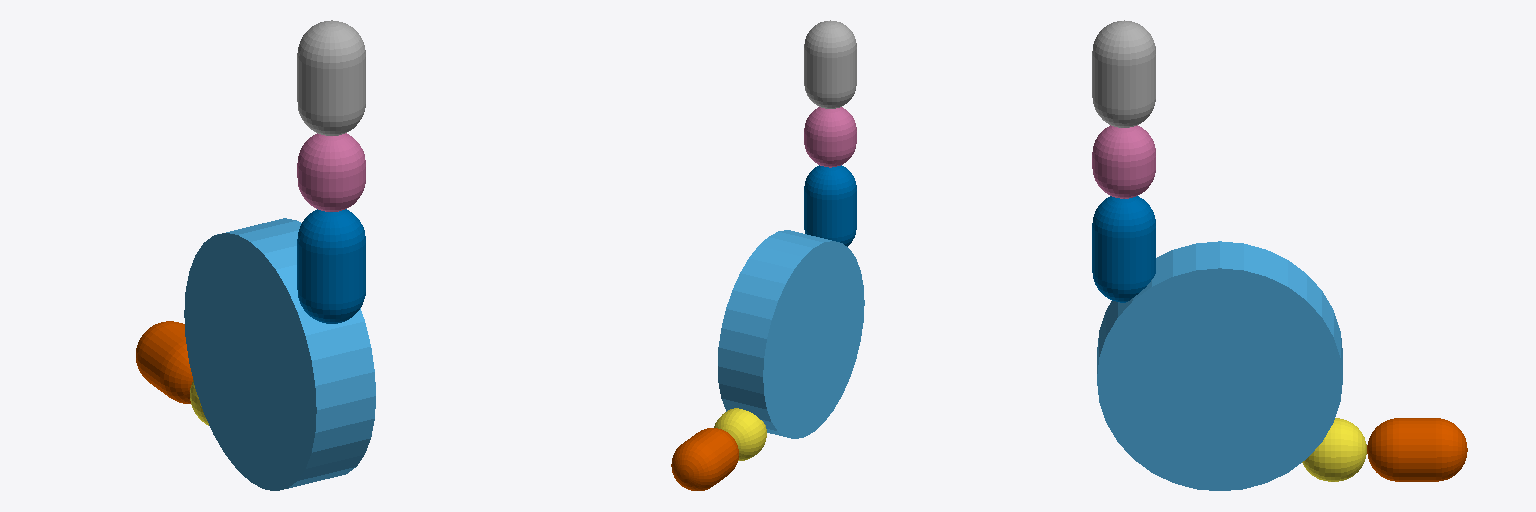
The robot description file, URDF, robot "DexterousHand":
<?xml version="1.0"?>
<robot name="DexterousHand">


    <link name="world"/>
    <joint name="world_to_palm" type="fixed">
        <parent link="world"/>
        <child link="palm"/>
        <origin xyz="0 0 0" rpy="0 0 0"/>
    </joint>
    <link name="palm">
        <inertial>
            <origin xyz="0 0 0.057" rpy="0 0 0"/>
            <mass value="0.30212892864"/>
            <inertia ixx="0.00049080844457568" ixy="0.0" ixz="0.0" iyy="0.00026746366246427523" iyz="0.0" izz="0.00026746366246427523"/>
        </inertial>
        <visual>
            <origin xyz="0 0 0.057" rpy="1.5708 0 1.5708"/>
            <geometry>
                <cylinder radius="0.057" length="0.0296"/>
            </geometry>
            <material name="default"/>
        </visual>
        <collision>
            <origin xyz="0 0 0.057" rpy="1.5708 0 1.5708"/>
            <geometry>
                <cylinder radius="0.057" length="0.0296"/>
            </geometry>
        </collision>
    </link>

    
    <joint name="thumb_joint1" type="revolute">
        <parent link="palm"/>
        <child link="thumb_base"/>
        <origin xyz="0.0029 0.0368 0.0157" rpy="-1.5708 -1.5708 0.0"/>
        <axis xyz="-1 0 0"/>
        <limit lower="-0.349" upper="2.094" effort="1.0" velocity="1.0"/>
    </joint>

    <link name="thumb_base"></link>

    <joint name="thumb_joint2" type="revolute">
        <parent link="thumb_base"/>
        <child link="thumb_proximal"/>
        <origin xyz="0.0 0.0 0.0" rpy="0.0 0.0 0.0"/>
        <axis xyz="0 0 1"/>
        <limit lower="-0.47" upper="2.443" effort="1.0" velocity="1.0"/>
    </joint>

    <link name="thumb_proximal">
        <inertial>
            <origin xyz="0 0 0.01565" rpy="0 0 0"/>
            <mass value="0.021538658803200002"/>
            <inertia ixx="2.9378910096388167e-06" ixy="0.0" ixz="0.0" 
            iyy="2.9378910096388167e-06" iyz="0.0" izz="2.358913912126464e-06"/>
        </inertial>
        <visual>
            <origin xyz="0 0 0.01565" rpy="0 0 0"/>
            <geometry>
                <cylinder radius="0.0148" length="0.0017000000000000001"/>
            </geometry>
            <material name="default"/>
        </visual>
        <visual>
            <origin xyz="0 0 0.0148" rpy="0 0 0"/>
            <geometry>
                <sphere radius="0.0148"/>
            </geometry>
            <material name="default"/>
        </visual>
        <visual>
            <origin xyz="0 0 0.0165" rpy="0 0 0"/>
            <geometry>
                <sphere radius="0.0148"/>
            </geometry>
            <material name="default"/>
        </visual>
        <collision>
            <origin xyz="0 0 0.01565" rpy="0 0 0"/>
            <geometry>
                <cylinder radius="0.0148" length="0.0017000000000000001"/>
            </geometry>
        </collision>
        <collision>
            <origin xyz="0 0 0.0148" rpy="0 0 0"/>
            <geometry>
                <sphere radius="0.0148"/>
            </geometry>
        </collision>
        <collision>
            <origin xyz="0 0 0.0165" rpy="0 0 0"/>
            <geometry>
                <sphere radius="0.0148"/>
            </geometry>
        </collision>
    </link>

    <joint name="thumb_joint3" type="revolute">
        <parent link="thumb_proximal"/>
        <child link="thumb_knuckle"/>
        <origin xyz="0.0 0.0 0.0313" rpy="0.0 0.0 0.0"/>
        <axis xyz="1 0 0"/>
        <limit lower="0.0" upper="0.0" effort="1.0" velocity="1.0"/>
    </joint>

    <link name="thumb_knuckle"></link>

    <joint name="thumb_joint4" type="revolute">
        <parent link="thumb_knuckle"/>
        <child link="thumb_middle"/>
        <origin xyz="0 0 0" rpy="0 0 0"/> 
        <axis xyz="0 1 0"/>
        <limit lower="-1.2" upper="1.9" effort="1.0" velocity="1.0"/>
    </joint>

    <link name="thumb_middle">
        <inertial>
            <origin xyz="0 0 0.0233" rpy="0 0 0"/>
            <mass value="0.032067140582400004"/>
            <inertia ixx="7.5589732685519385e-06" ixy="0.0" ixz="0.0" 
            iyy="7.5589732685519385e-06" iyz="0.0" izz="3.5119932365844485e-06"/>
        </inertial>
        <visual>
            <origin xyz="0 0 0.0233" rpy="0 0 0"/>
            <geometry>
                <cylinder radius="0.0148" length="0.017"/>
            </geometry>
            <material name="default"/>
        </visual>
        <visual>
            <origin xyz="0 0 0.0148" rpy="0 0 0"/>
            <geometry>
                <sphere radius="0.0148"/>
            </geometry>
            <material name="default"/>
        </visual>
        <visual>
            <origin xyz="0 0 0.0318" rpy="0 0 0"/>
            <geometry>
                <sphere radius="0.0148"/>
            </geometry>
            <material name="default"/>
        </visual>
        <collision>
            <origin xyz="0 0 0.0233" rpy="0 0 0"/>
            <geometry>
                <cylinder radius="0.0148" length="0.017"/>
            </geometry>
        </collision>
        <collision>
            <origin xyz="0 0 0.0148" rpy="0 0 0"/>
            <geometry>
                <sphere radius="0.0148"/>
            </geometry>
        </collision>
        <collision>
            <origin xyz="0 0 0.0318" rpy="0 0 0"/>
            <geometry>
                <sphere radius="0.0148"/>
            </geometry>
        </collision>
    </link>

    <joint name="thumb_joint5" type="revolute">
        <parent link="thumb_middle"/>
        <child link="thumb_distal"/>
        <origin xyz="0 0 0.0466" rpy="0 0 0"/> 
        <axis xyz="0 1 0"/>
        <limit lower="0.0" upper="0.0" effort="1.0" velocity="1.0"/>
    </joint>

    <link name="thumb_distal">
    </link>

    
    <joint name="index_joint1" type="revolute">
        <parent link="palm"/>
        <child link="index_proximal"/>
        <origin xyz="0.0 0.0 0.0" rpy="0.0 0.0 0.0"/>
        <axis xyz="1 0 0"/>
        <limit lower="0.0" upper="0.0" effort="1.0" velocity="1.0"/>
    </joint>

    <link name="index_proximal">
    </link>

    <joint name="index_joint2" type="revolute">
        <parent link="index_proximal"/>
        <child link="index_dummy"/>
        <origin xyz="0.0 0.0 0.0" rpy="0.0 0.0 0.0"/>
        <axis xyz="0 1 0"/>
        <limit lower="0.0" upper="0.0" effort="1.0" velocity="1.0"/>
    </joint>

    <link name="index_dummy"></link>

    <joint name="index_joint3" type="revolute">
        <parent link="index_dummy"/>
        <child link="index_middle"/>
        <origin xyz="0 0 0" rpy="0 0 0"/>
        <axis xyz="0 1 0"/>
        <limit lower="0.0" upper="0.0" effort="1.0" velocity="1.0"/>
    </joint>

    <link name="index_middle">
    </link>

    <joint name="index_joint4" type="revolute">
        <parent link="index_middle"/>
        <child link="index_distal"/>
        <origin xyz="0 0 0" rpy="0 0 0"/> 
        <axis xyz="0 1 0"/>
        <limit lower="0.0" upper="0.0" effort="1.0" velocity="1.0"/>
    </joint>

    <link name="index_distal">
    </link>

    
    <joint name="middle_joint1" type="revolute">
        <parent link="palm"/>
        <child link="middle_proximal"/>
        <origin xyz="0.0 0.0 0.0" rpy="0.0 0.0 0.0"/>
        <axis xyz="1 0 0"/>
        <limit lower="0.0" upper="0.0" effort="1.0" velocity="1.0"/>
    </joint>

    <link name="middle_proximal">
    </link>

    <joint name="middle_joint2" type="revolute">
        <parent link="middle_proximal"/>
        <child link="middle_dummy"/>
        <origin xyz="0.0 0.0 0.0" rpy="0.0 0.0 0.0"/>
        <axis xyz="0 1 0"/>
        <limit lower="0.0" upper="0.0" effort="1.0" velocity="1.0"/>
    </joint>

    <link name="middle_dummy"></link>

    <joint name="middle_joint3" type="revolute">
        <parent link="middle_dummy"/>
        <child link="middle_middle"/>
        <origin xyz="0 0 0" rpy="0 0 0"/>
        <axis xyz="0 1 0"/>
        <limit lower="0.0" upper="0.0" effort="1.0" velocity="1.0"/>
    </joint>

    <link name="middle_middle">
    </link>

    <joint name="middle_joint4" type="revolute">
        <parent link="middle_middle"/>
        <child link="middle_distal"/>
        <origin xyz="0 0 0" rpy="0 0 0"/> 
        <axis xyz="0 1 0"/>
        <limit lower="0.0" upper="0.0" effort="1.0" velocity="1.0"/>
    </joint>

    <link name="middle_distal">
    </link>

    
    <joint name="ring_joint1" type="revolute">
        <parent link="palm"/>
        <child link="ring_proximal"/>
        <origin xyz="0.0 0.0 0.0" rpy="0.0 0.0 0.0"/>
        <axis xyz="1 0 0"/>
        <limit lower="0.0" upper="0.0" effort="1.0" velocity="1.0"/>
    </joint>

    <link name="ring_proximal">
    </link>

    <joint name="ring_joint2" type="revolute">
        <parent link="ring_proximal"/>
        <child link="ring_dummy"/>
        <origin xyz="0.0 0.0 0.0" rpy="0.0 0.0 0.0"/>
        <axis xyz="0 1 0"/>
        <limit lower="0.0" upper="0.0" effort="1.0" velocity="1.0"/>
    </joint>

    <link name="ring_dummy"></link>

    <joint name="ring_joint3" type="revolute">
        <parent link="ring_dummy"/>
        <child link="ring_middle"/>
        <origin xyz="0 0 0" rpy="0 0 0"/>
        <axis xyz="0 1 0"/>
        <limit lower="0.0" upper="0.0" effort="1.0" velocity="1.0"/>
    </joint>

    <link name="ring_middle">
    </link>

    <joint name="ring_joint4" type="revolute">
        <parent link="ring_middle"/>
        <child link="ring_distal"/>
        <origin xyz="0 0 0" rpy="0 0 0"/> 
        <axis xyz="0 1 0"/>
        <limit lower="0.0" upper="0.0" effort="1.0" velocity="1.0"/>
    </joint>

    <link name="ring_distal">
    </link>

    
    <joint name="little_joint0" type="revolute">
        <parent link="palm"/>
        <child link="little_base"/>
        <origin xyz="0.0 0.0 0.0" rpy="0.0 0.0 0.0"/>
        <axis xyz="0 1 0"/>
        <limit lower="0.0" upper="0.0" effort="1.0" velocity="1.0"/>
    </joint>

    <link name="little_base"></link>

    <joint name="little_joint1" type="revolute">
        <parent link="little_base"/>
        <child link="little_proximal"/>
        <origin xyz="0.0 -0.0443 0.091" rpy="-0.0 -0.0 -0.0"/>
        <axis xyz="0 1 0"/>
        <limit lower="-0.314" upper="2.23" effort="1.0" velocity="1.0"/>
    </joint>

    <link name="little_proximal">
        <inertial>
            <origin xyz="0 0 0.02655" rpy="0 0 0"/>
            <mass value="0.036540024998400006"/>
            <inertia ixx="1.058665009272394e-05" ixy="0.0" ixz="0.0" 
            iyy="1.058665009272394e-05" iyz="0.0" izz="4.001863537824769e-06"/>
        </inertial>
        <visual>
            <origin xyz="0 0 0.02655" rpy="0 0 0"/>
            <geometry>
                <cylinder radius="0.0148" length="0.0235"/>
            </geometry>
            <material name="default"/>
        </visual>
        <visual>
            <origin xyz="0 0 0.0148" rpy="0 0 0"/>
            <geometry>
                <sphere radius="0.0148"/>
            </geometry>
            <material name="default"/>
        </visual>
        <visual>
            <origin xyz="0 0 0.0383" rpy="0 0 0"/>
            <geometry>
                <sphere radius="0.0148"/>
            </geometry>
            <material name="default"/>
        </visual>
        <collision>
            <origin xyz="0 0 0.02655" rpy="0 0 0"/>
            <geometry>
                <cylinder radius="0.0148" length="0.0235"/>
            </geometry>
        </collision>
        <collision>
            <origin xyz="0 0 0.0148" rpy="0 0 0"/>
            <geometry>
                <sphere radius="0.0148"/>
            </geometry>
        </collision>
        <collision>
            <origin xyz="0 0 0.0383" rpy="0 0 0"/>
            <geometry>
                <sphere radius="0.0148"/>
            </geometry>
        </collision>
    </link>

    <joint name="little_joint2" type="revolute">
        <parent link="little_proximal"/>
        <child link="little_dummy"/>
        <origin xyz="0.0 0.0 0.038" rpy="0.0 0.0 0.0"/>
        <axis xyz="1 0 0"/>
        <limit lower="-1.047" upper="1.047" effort="1.0" velocity="1.0"/>
    </joint>

    <link name="little_dummy"></link>

    <joint name="little_joint3" type="revolute">
        <parent link="little_dummy"/>
        <child link="little_middle"/>
        <origin xyz="0 0 0.015100000000000002" rpy="0 0 0"/>
        <axis xyz="0 1 0"/>
        <limit lower="-0.506" upper="1.885" effort="1.0" velocity="1.0"/>
    </joint>

    <link name="little_middle">
        <inertial>
            <origin xyz="0 0 0.01805" rpy="0 0 0"/>
            <mass value="0.0248417119104"/>
            <inertia ixx="4.058162759109537e-06" ixy="0.0" ixz="0.0" 
            iyy="4.058162759109537e-06" iyz="0.0" izz="2.7206642884270085e-06"/>
        </inertial>
        <visual>
            <origin xyz="0 0 0.01805" rpy="0 0 0"/>
            <geometry>
                <cylinder radius="0.0148" length="0.006499999999999999"/>
            </geometry>
            <material name="default"/>
        </visual>
        <visual>
            <origin xyz="0 0 0.0148" rpy="0 0 0"/>
            <geometry>
                <sphere radius="0.0148"/>
            </geometry>
            <material name="default"/>
        </visual>
        <visual>
            <origin xyz="0 0 0.0213" rpy="0 0 0"/>
            <geometry>
                <sphere radius="0.0148"/>
            </geometry>
            <material name="default"/>
        </visual>
        <collision>
            <origin xyz="0 0 0.01805" rpy="0 0 0"/>
            <geometry>
                <cylinder radius="0.0148" length="0.006499999999999999"/>
            </geometry>
        </collision>
        <collision>
            <origin xyz="0 0 0.0148" rpy="0 0 0"/>
            <geometry>
                <sphere radius="0.0148"/>
            </geometry>
        </collision>
        <collision>
            <origin xyz="0 0 0.0213" rpy="0 0 0"/>
            <geometry>
                <sphere radius="0.0148"/>
            </geometry>
        </collision>
    </link>

    <joint name="little_joint4" type="revolute">
        <parent link="little_middle"/>
        <child link="little_distal"/>
        <origin xyz="0 0 0.0361" rpy="0 0 0"/>
        <axis xyz="0 1 0"/>
        <limit lower="-0.366" upper="2.042" effort="1.0" velocity="1.0"/>
    </joint>

    <link name="little_distal">
        <inertial>
            <origin xyz="0 0 0.026" rpy="0 0 0"/>
            <mass value="0.035783075328"/>
            <inertia ixx="1.002260084553728e-05" ixy="0.0" ixz="0.0" 
            iyy="1.002260084553728e-05" iyz="0.0" izz="3.91896240992256e-06"/>
        </inertial>
        <visual>
            <origin xyz="0 0 0.026" rpy="0 0 0"/>
            <geometry>
                <cylinder radius="0.0148" length="0.022399999999999996"/>
            </geometry>
            <material name="default"/>
        </visual>
        <visual>
            <origin xyz="0 0 0.0148" rpy="0 0 0"/>
            <geometry>
                <sphere radius="0.0148"/>
            </geometry>
            <material name="default"/>
        </visual>
        <visual>
            <origin xyz="0 0 0.0372" rpy="0 0 0"/>
            <geometry>
                <sphere radius="0.0148"/>
            </geometry>
            <material name="default"/>
        </visual>
        <collision>
            <origin xyz="0 0 0.026" rpy="0 0 0"/>
            <geometry>
                <cylinder radius="0.0148" length="0.022399999999999996"/>
            </geometry>
        </collision>
        <collision>
            <origin xyz="0 0 0.0148" rpy="0 0 0"/>
            <geometry>
                <sphere radius="0.0148"/>
            </geometry>
        </collision>
        <collision>
            <origin xyz="0 0 0.0372" rpy="0 0 0"/>
            <geometry>
                <sphere radius="0.0148"/>
            </geometry>
        </collision>
    </link>

</robot>

--- What the picture shows (computed from the rendered views, not written in the file) ---
3 views of the same robot in one strip: view 1: azimuth 30°, elevation 25°; view 2: azimuth 150°, elevation 25°; view 3: azimuth 270°, elevation 25° (orthographic).
Robot: DexterousHand — 24 links, 23 joints (22 revolute, 1 fixed); root link world; default pose: all joints at 0.
Links seen in each view (by area): view 1: palm, little_proximal, little_distal, little_middle, thumb_middle; view 2: palm, little_distal, little_proximal, thumb_middle, little_middle, thumb_proximal; view 3: palm, little_distal, little_proximal, thumb_middle, little_middle, thumb_proximal.
Boxes of the visible links, x1=… form: palm: x1=184, y1=218, x2=375, y2=490; little_proximal: x1=297, y1=209, x2=365, y2=323; little_distal: x1=297, y1=20, x2=365, y2=135; little_middle: x1=297, y1=133, x2=365, y2=211; thumb_middle: x1=136, y1=321, x2=192, y2=403; palm: x1=718, y1=230, x2=864, y2=438; little_distal: x1=804, y1=20, x2=856, y2=108; little_proximal: x1=804, y1=165, x2=856, y2=246; thumb_middle: x1=671, y1=428, x2=738, y2=490; little_middle: x1=804, y1=107, x2=856, y2=167; thumb_proximal: x1=714, y1=408, x2=766, y2=460; palm: x1=1097, y1=241, x2=1342, y2=490; little_distal: x1=1092, y1=20, x2=1155, y2=127; little_proximal: x1=1092, y1=196, x2=1155, y2=302; thumb_middle: x1=1367, y1=418, x2=1467, y2=481; little_middle: x1=1092, y1=125, x2=1155, y2=198; thumb_proximal: x1=1302, y1=418, x2=1366, y2=481.
Size in the robot's own frame: 0.0325 by 0.1738 by 0.2322 metres.
Geometry: primitives only (box / cylinder / sphere), no mesh files.
